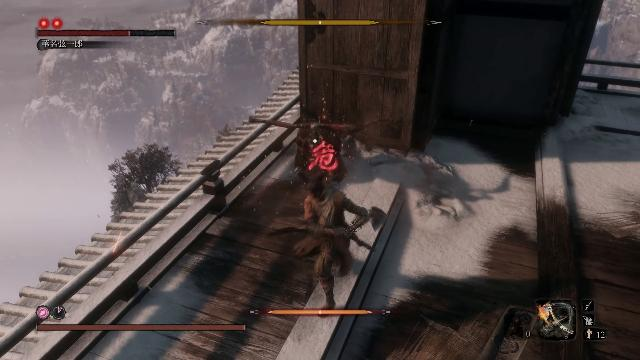sk: (285, 175, 374, 319)
